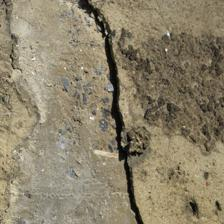Crack: (39, 1, 107, 222)
